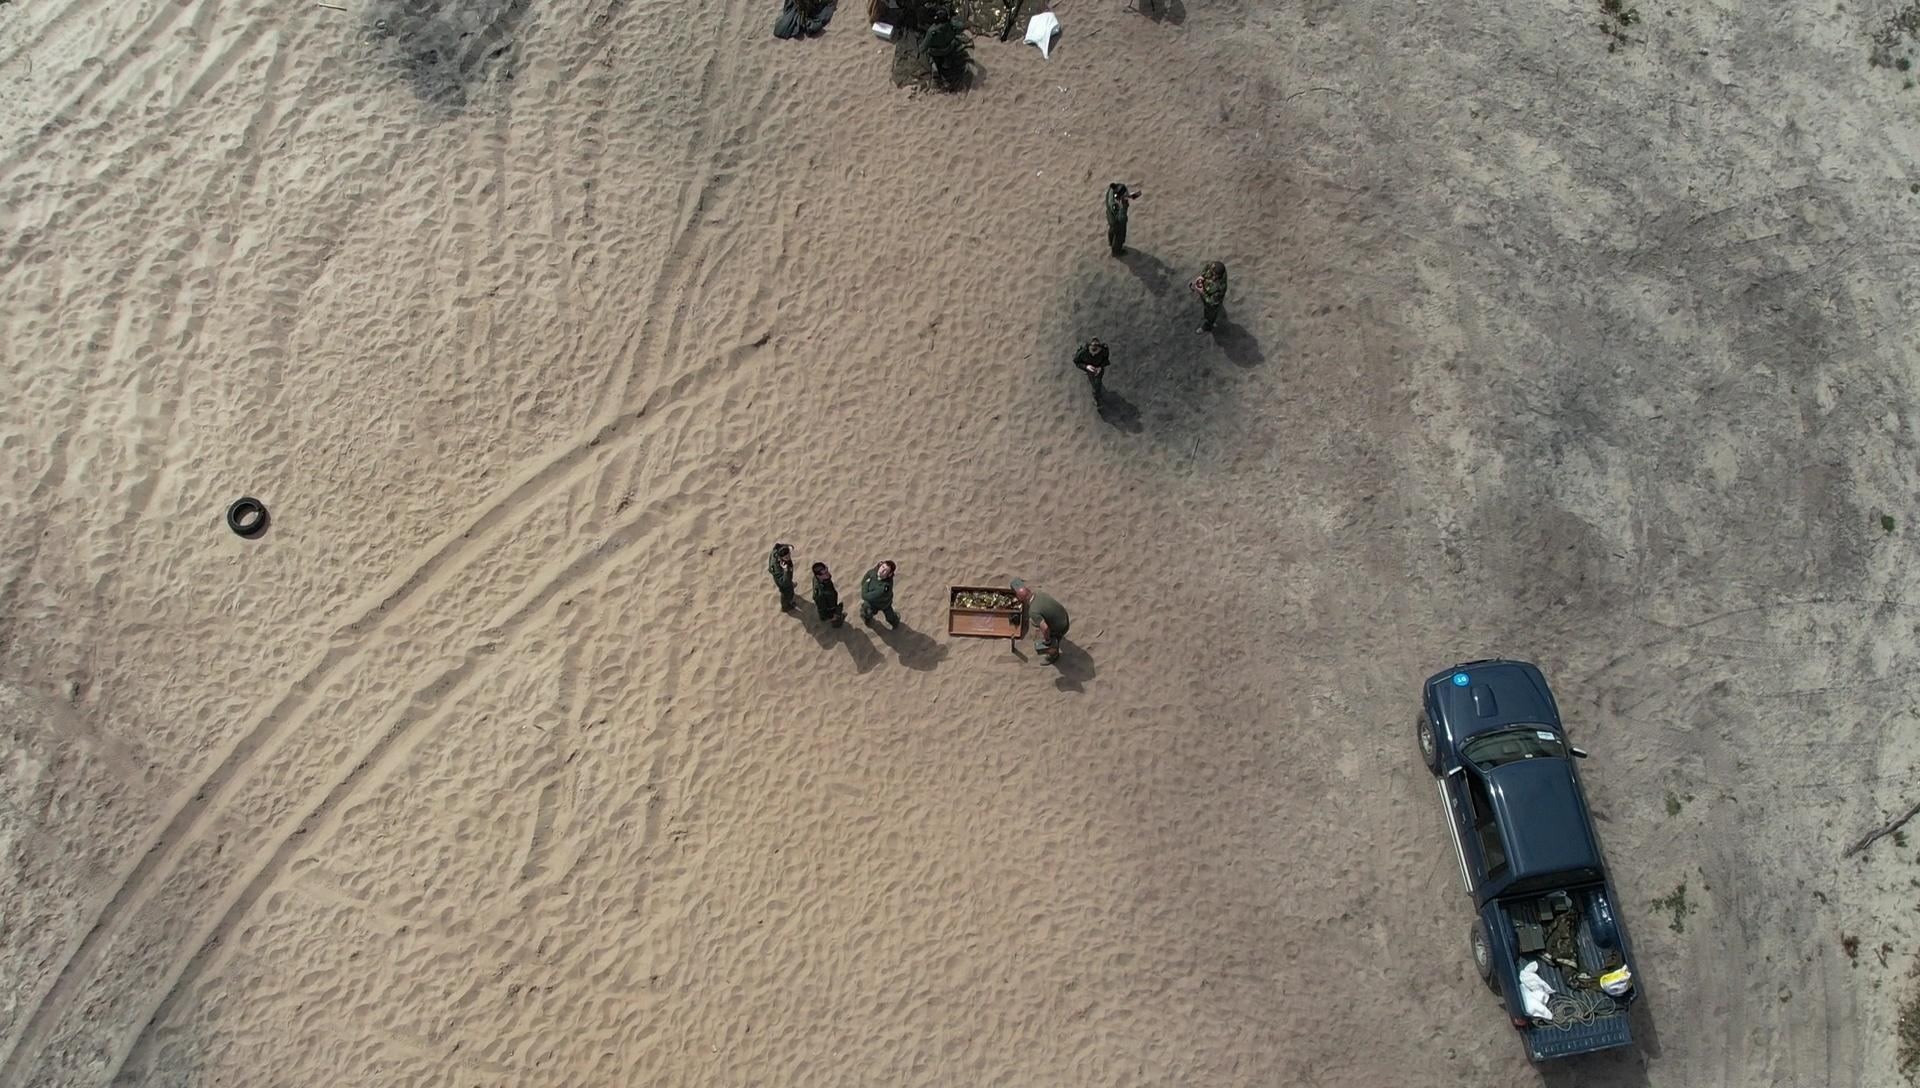Soldier: (1065, 313, 1145, 435), (1000, 578, 1091, 680), (1182, 243, 1247, 347), (764, 525, 810, 640), (862, 546, 913, 642), (802, 554, 857, 636), (1101, 178, 1146, 262)
